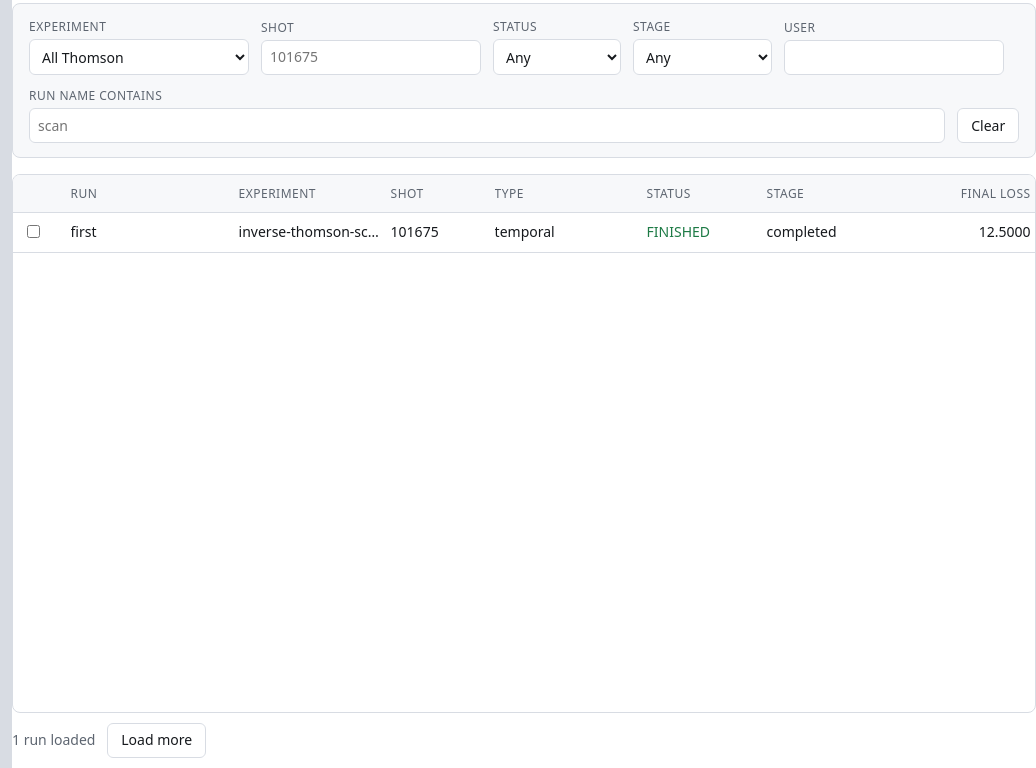
Test: pagination is by cursor › loads more and appends, sending the token from the previous page
The image size is (1036, 768).
(page scrolled)
expect the text "first" is shown: met, box top-left (71, 222), bottom-right (97, 241)
Click the button "Load more".
click(157, 740)  # box top-left (108, 723), bottom-right (206, 758)
(page scrolled)
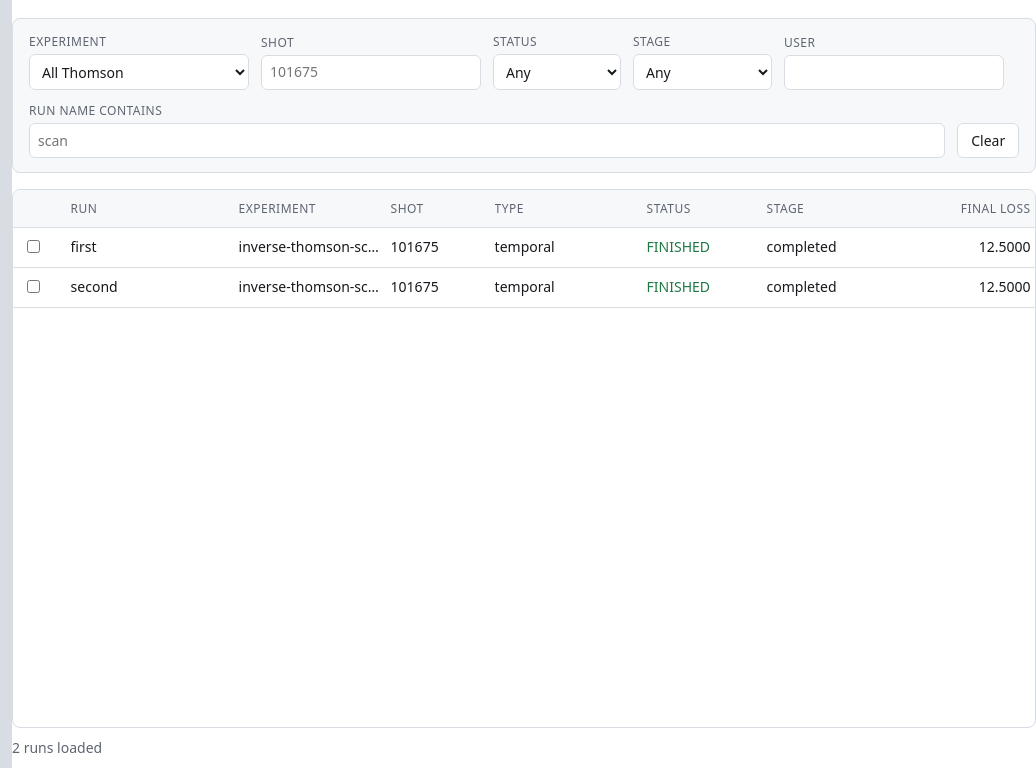
expect the text "first" is shown: met, box top-left (71, 237), bottom-right (97, 256)
expect the text "second" is shown: met, box top-left (71, 277), bottom-right (118, 296)
